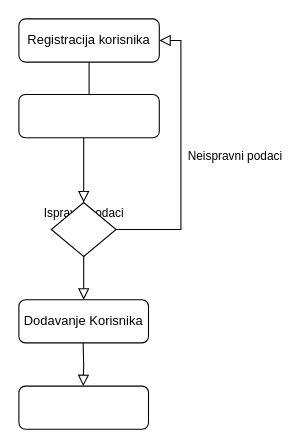
The diagram is 300 pixels wide and 448 high, and some of its shapes have lost their labels. The centre of each missing label's shape, as x and y in pixels:
"Provera podataka" goes at point (88, 115).
"Redirekcija na listu računa" goes at point (83, 407).
